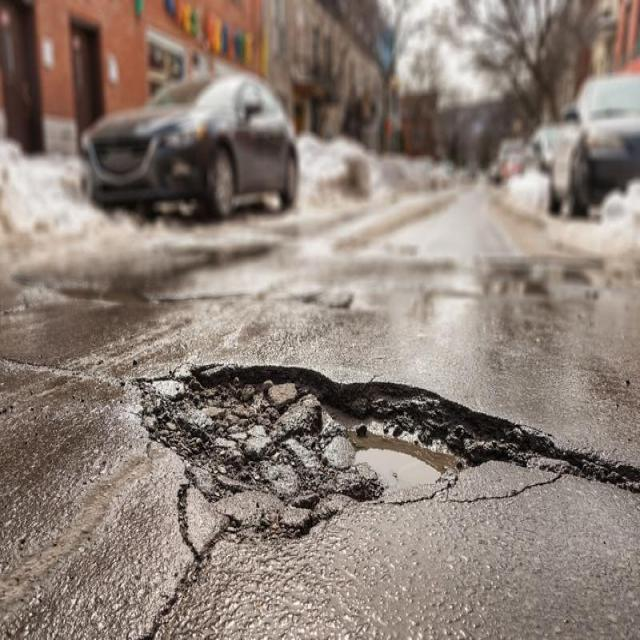Pothole: (138, 362, 639, 542)
